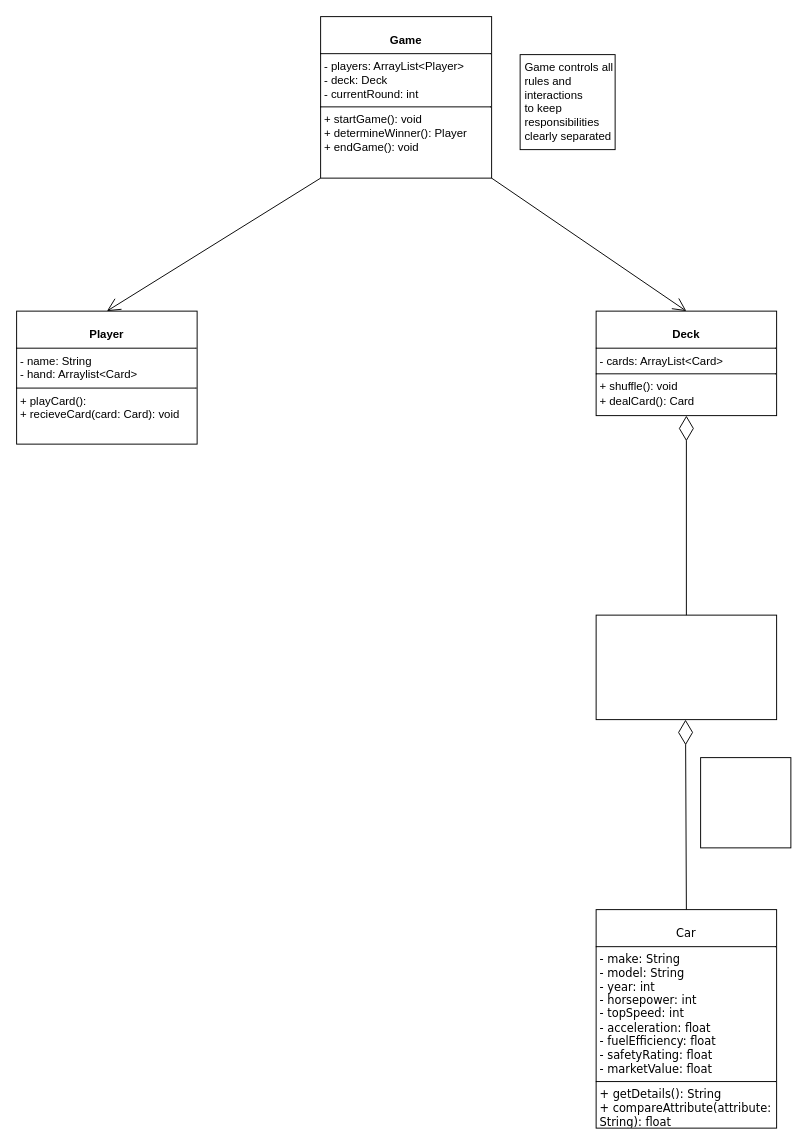
This 808x1145 diagram has some shape labels left out. The shapes that lost their labels are listed below. From the top down, each one's centre as x and y in pixels, then its label:
At pixel 686 667: "Card - cardID: int - car: Car + displayCard(): void".
At pixel 745 802: "Card contains a Car object to avoid repeating data across classes".
